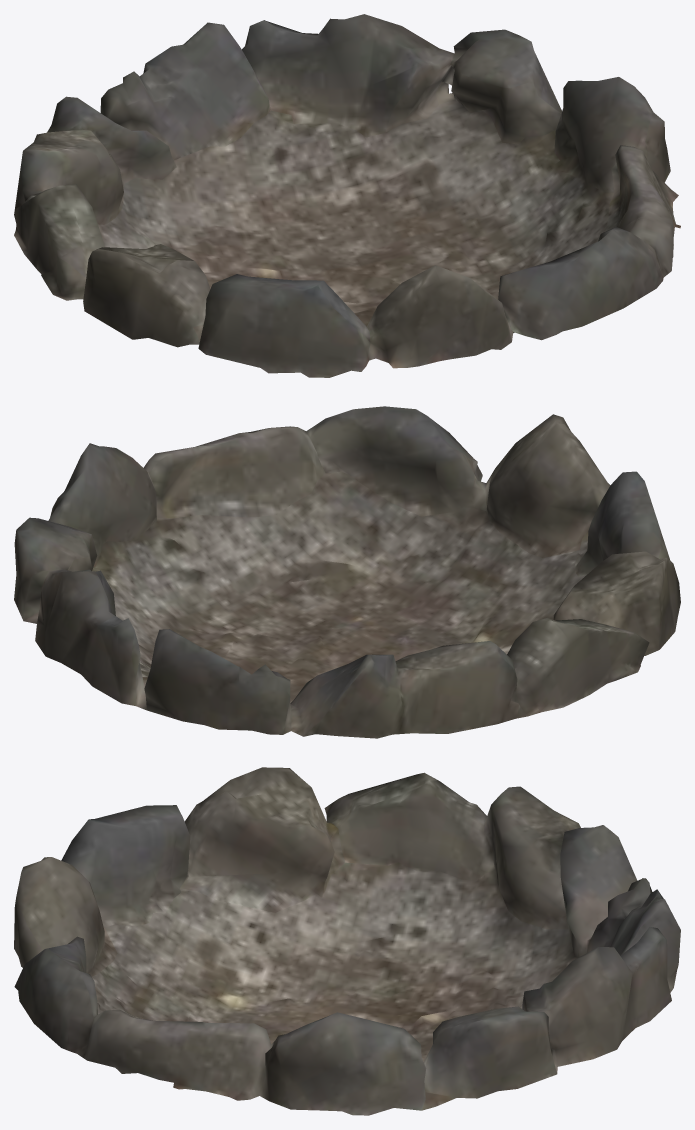
Rendered from ph-stone-fire-pit.lod1.glb.
The picture shows the model from 3 angles, top to bottom: view 1: azimuth 30°, elevation 25°; view 2: azimuth 150°, elevation 25°; view 3: azimuth 270°, elevation 25°; orthographic projection.
Parts seen in each view (by area): view 1: stone_fire_pit; view 2: stone_fire_pit; view 3: stone_fire_pit.
Part boxes in pixels (left/top/right/bottom): stone_fire_pit: left=14, top=14, right=680, bottom=377; stone_fire_pit: left=14, top=406, right=680, bottom=738; stone_fire_pit: left=14, top=767, right=680, bottom=1115.
Size of the model in its own units: 1.45 by 0.3883 by 1.43.
Materials: 1 (1 with a texture image).
